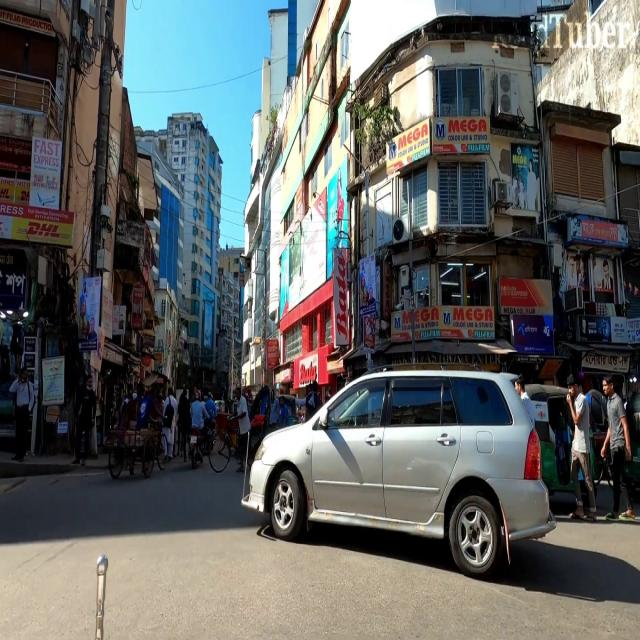silver: (246, 366, 554, 591)
